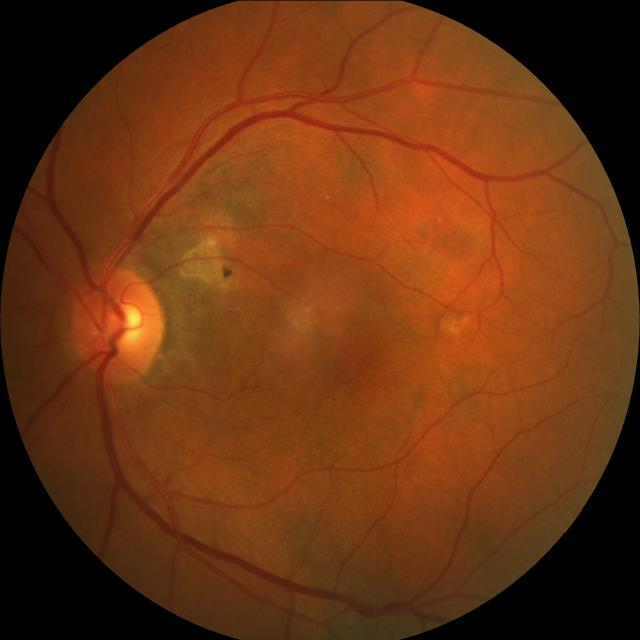OC: (99, 300, 148, 350)
OD: (66, 265, 164, 383)
